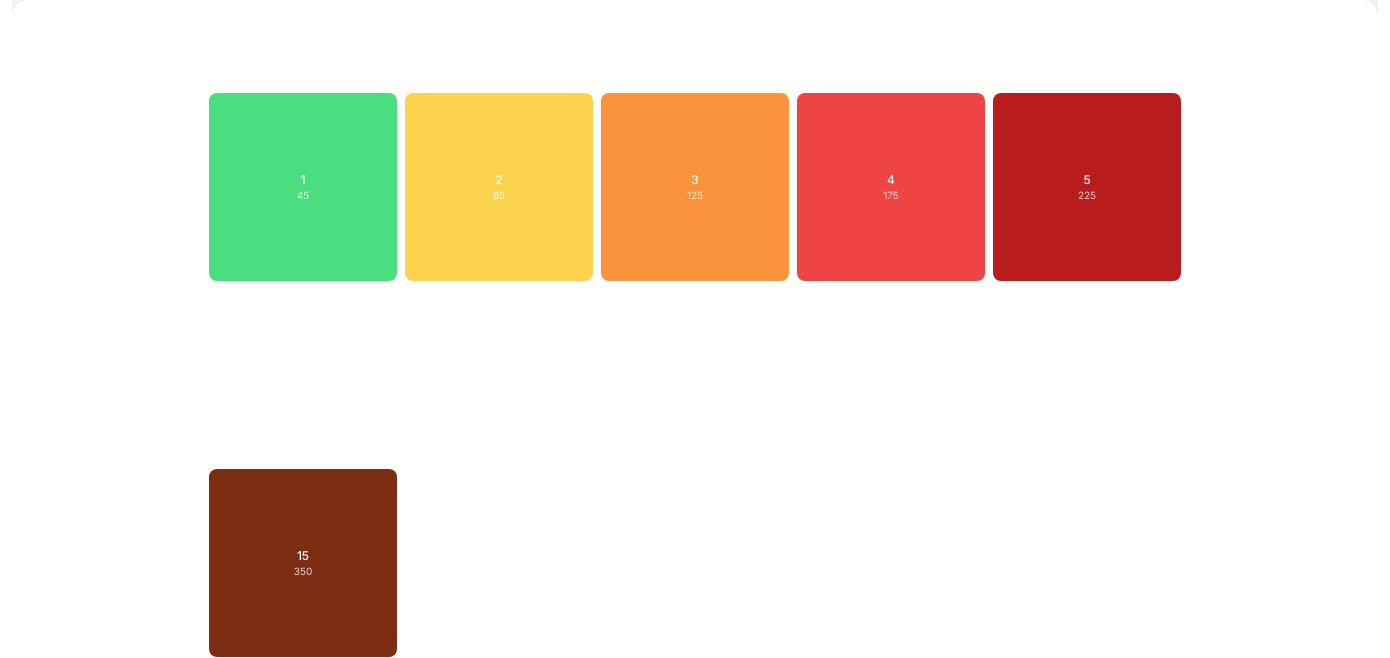
Test: CalendarHeatmap › Tooltip Display › hides tooltip on mouse leave
# Hover over the day
Step 1. Hover over the button with test id "calendar-day-2024-01-01" → x=303, y=187, box [209,93,397,281]
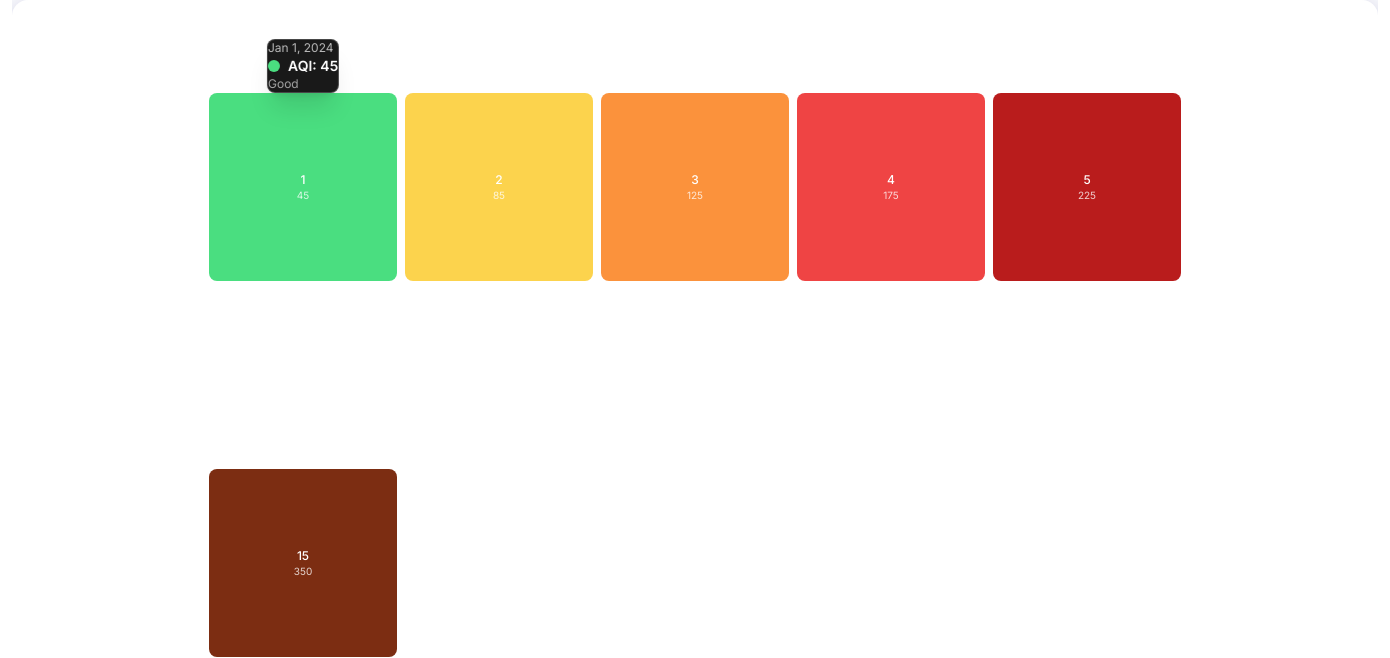
Result: the element with test id "calendar-tooltip" is shown at [267,39,339,93]
# Mouse leave
Step 2. Move the pointer off the button with test id "calendar-day-2024-01-01", box [209,93,397,281]
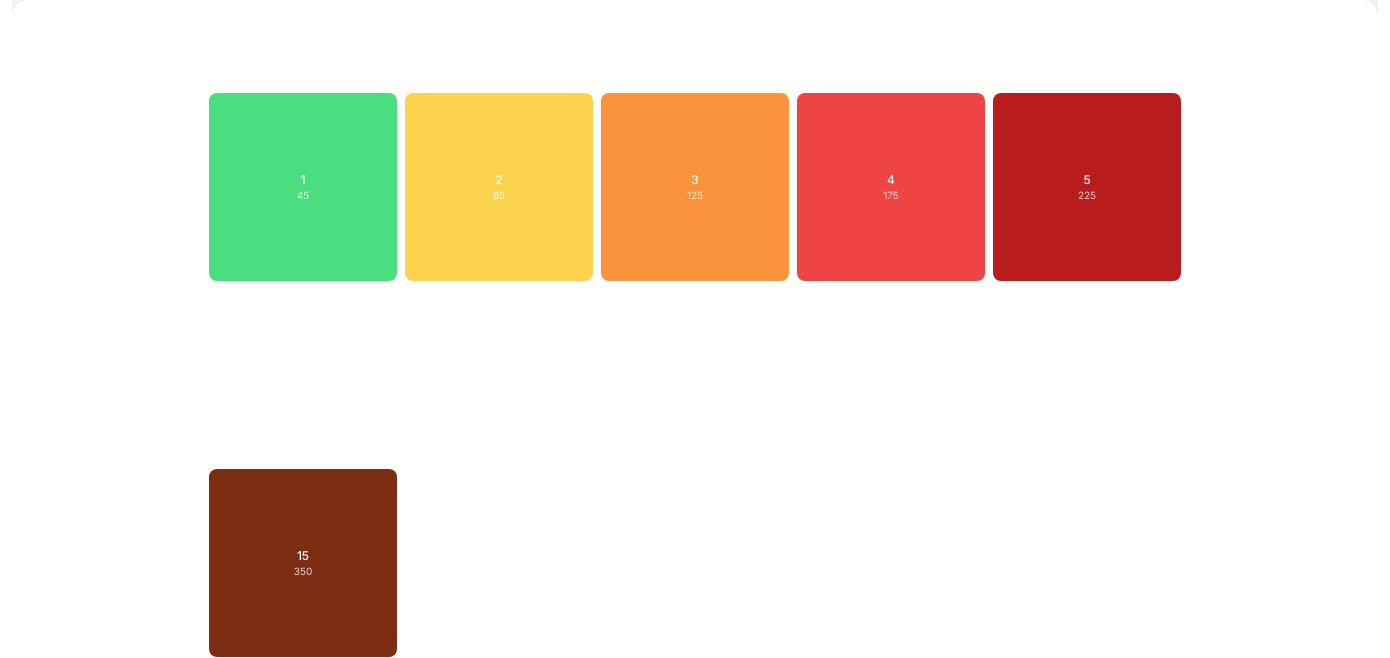
Result: the element with test id "calendar-tooltip" is gone
